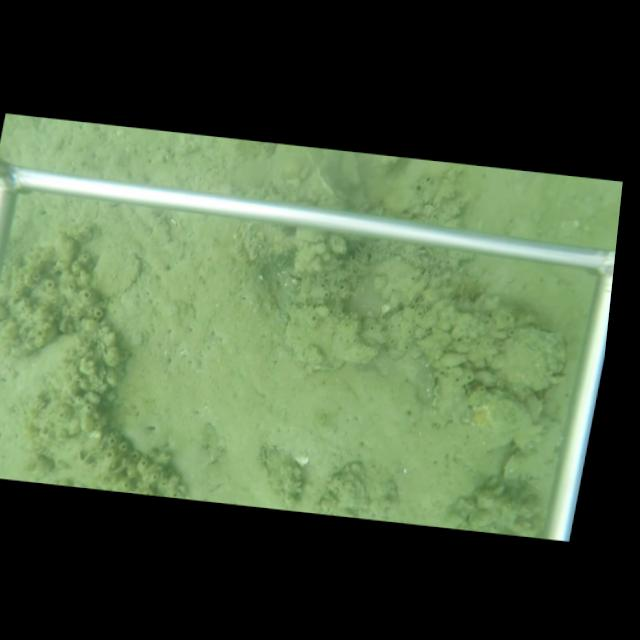Oyster-Closed: (279, 303, 354, 374), (307, 149, 349, 203)
Oyster-Indeterminate: (487, 319, 572, 402), (90, 246, 144, 304)
